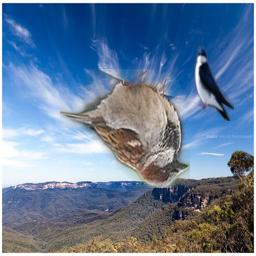Sparrow: (60, 69, 190, 188)
Swallow: (194, 46, 234, 121)
